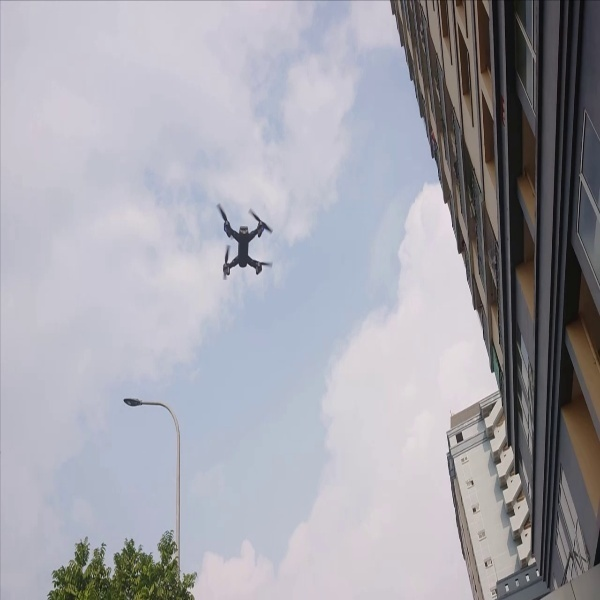drone: (203, 196, 289, 283)
